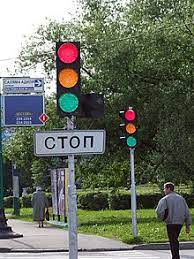tl: (56, 43, 105, 116), (119, 108, 138, 148)
